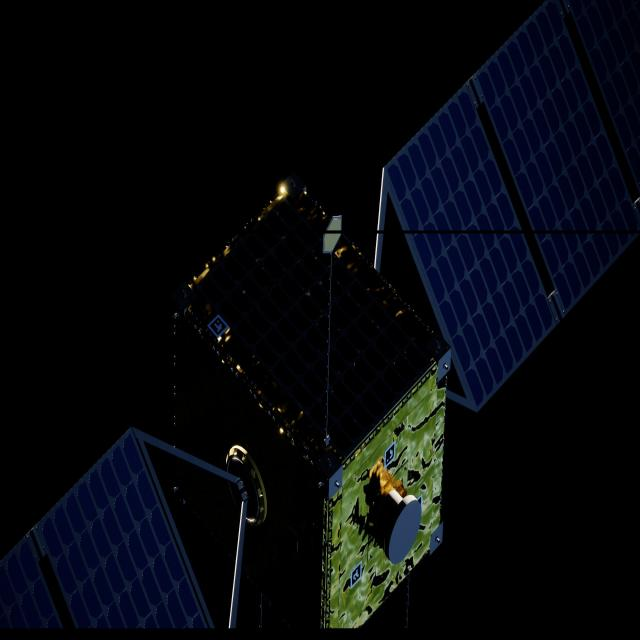medium_debris: (0, 0, 640, 632)
